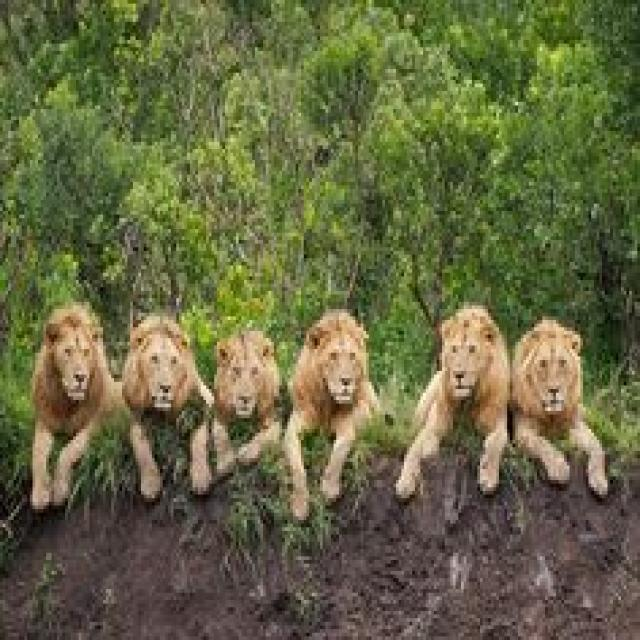lions: (395, 294, 513, 579), (290, 279, 391, 577), (517, 306, 610, 577), (27, 277, 117, 517), (123, 287, 214, 523), (220, 316, 287, 527)
